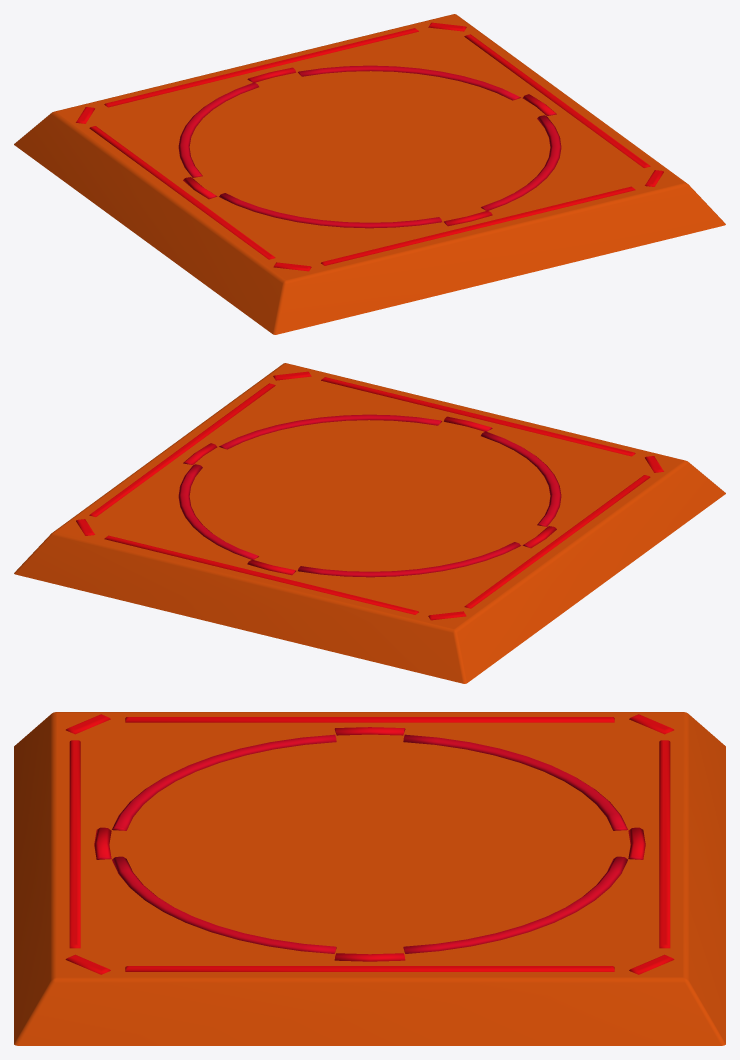
File: ftd_Sumo_Dohyou.fbx
3 views of the same model, one above another, from view 1: azimuth 30°, elevation 25°; view 2: azimuth 150°, elevation 25°; view 3: azimuth 270°, elevation 25° (orthographic). The views are drawn at different scales.
Visible parts, largest first — view 1: Dohyou; view 2: Dohyou; view 3: Dohyou.
Boxes of the visible parts, x1,y1,x2,y2 form: Dohyou: [14, 14, 725, 334]; Dohyou: [14, 363, 725, 683]; Dohyou: [14, 712, 725, 1045].
Bounding box in the file's own units: 6.4 × 0.5275 × 6.4.
